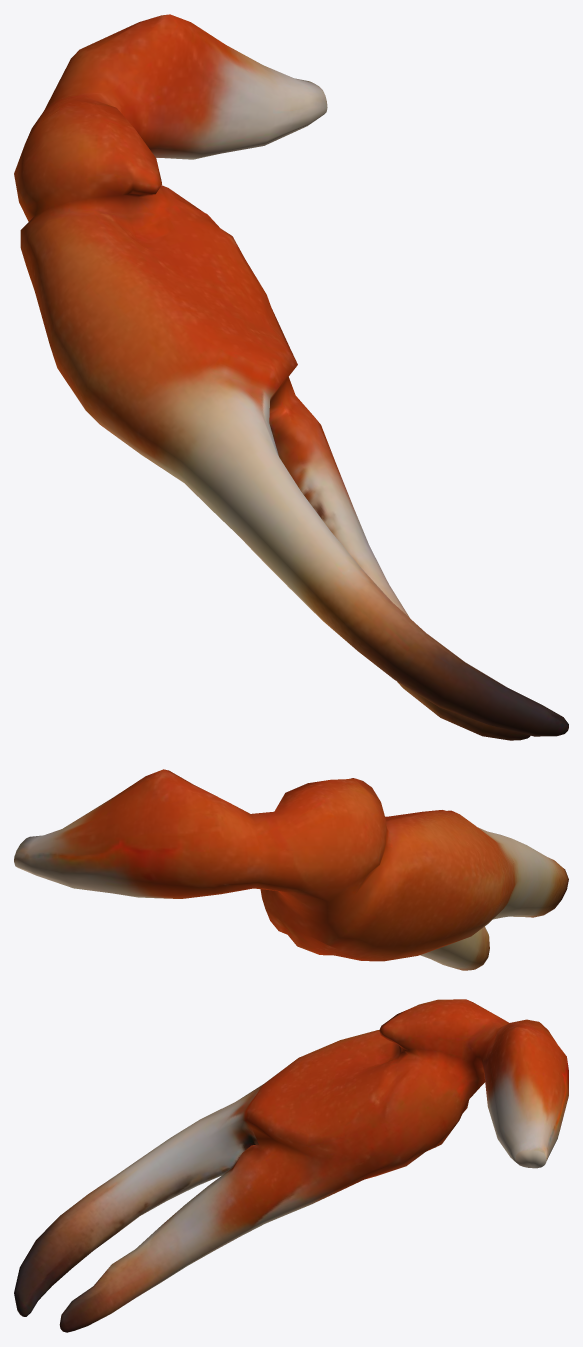
File: crab.fbx
3 renders of one model, top to bottom at view 1: azimuth 30°, elevation 25°; view 2: azimuth 150°, elevation 25°; view 3: azimuth 270°, elevation 25°, orthographic. The views are drawn at different scales.
Visible parts, largest first — view 1: tripo_node_f3778de1-e57f-4073-a7cd-3b5a73d30443; view 2: tripo_node_f3778de1-e57f-4073-a7cd-3b5a73d30443; view 3: tripo_node_f3778de1-e57f-4073-a7cd-3b5a73d30443.
Boxes of the visible parts, bbox=[...] form: tripo_node_f3778de1-e57f-4073-a7cd-3b5a73d30443: bbox=[14, 14, 568, 740]; tripo_node_f3778de1-e57f-4073-a7cd-3b5a73d30443: bbox=[14, 769, 568, 970]; tripo_node_f3778de1-e57f-4073-a7cd-3b5a73d30443: bbox=[14, 999, 568, 1332].
Bounding box in the file's own units: 31.12 × 35.28 × 58.21.
1 material, 1 textured.
